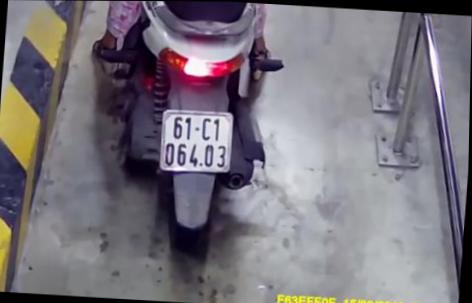LP: (156, 107, 235, 174)
